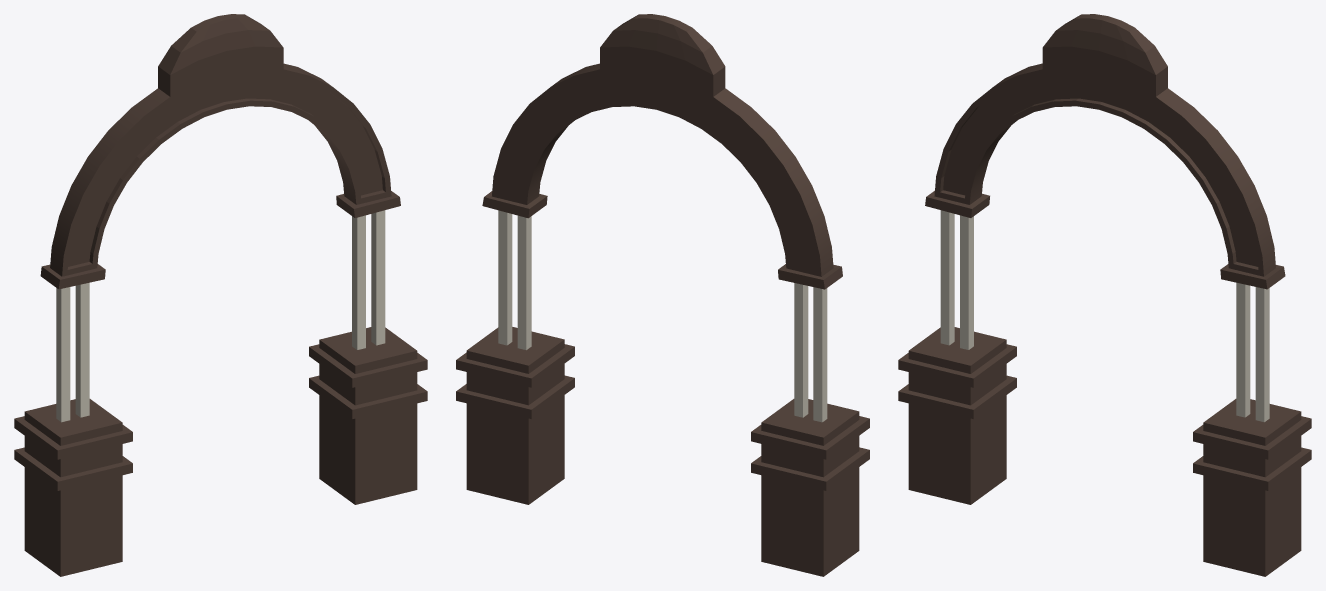
Rendered from Arch.fbx.
The picture shows the model from 3 angles, left to right: view 1: azimuth 30°, elevation 25°; view 2: azimuth 150°, elevation 25°; view 3: azimuth 330°, elevation 25°; orthographic projection.
Visible parts, largest first — view 1: Tube001, Box006, Box012, Box008, Box011, Box009, Box010; view 2: Tube001, Box012, Box006, Box008, Box011, Box009, Box010; view 3: Tube001, Box012, Box006, Box011, Box008, Box010, Box009.
Part boxes in pixels (<box>): Tube001: <box>40,14,400,289</box>; Box006: <box>14,399,132,576</box>; Box012: <box>309,327,427,504</box>; Box008: <box>56,287,70,422</box>; Box011: <box>371,210,385,345</box>; Box009: <box>75,282,89,417</box>; Box010: <box>352,215,365,349</box>; Tube001: <box>482,14,842,289</box>; Box012: <box>456,327,574,504</box>; Box006: <box>751,399,869,576</box>; Box008: <box>813,287,827,422</box>; Box011: <box>498,210,512,345</box>; Box009: <box>794,283,808,417</box>; Box010: <box>517,215,531,350</box>; Tube001: <box>925,14,1285,289</box>; Box012: <box>1193,399,1311,576</box>; Box006: <box>898,327,1016,504</box>; Box011: <box>1255,287,1269,422</box>; Box008: <box>940,210,954,345</box>; Box010: <box>1236,282,1250,417</box>; Box009: <box>960,215,973,349</box>.
Bounding box in the file's own units: 8344 × 10815 × 1700.
